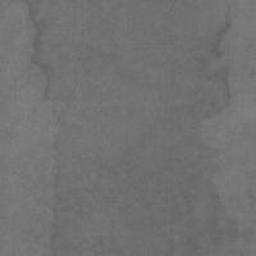Water spot: (15, 0, 255, 256)
